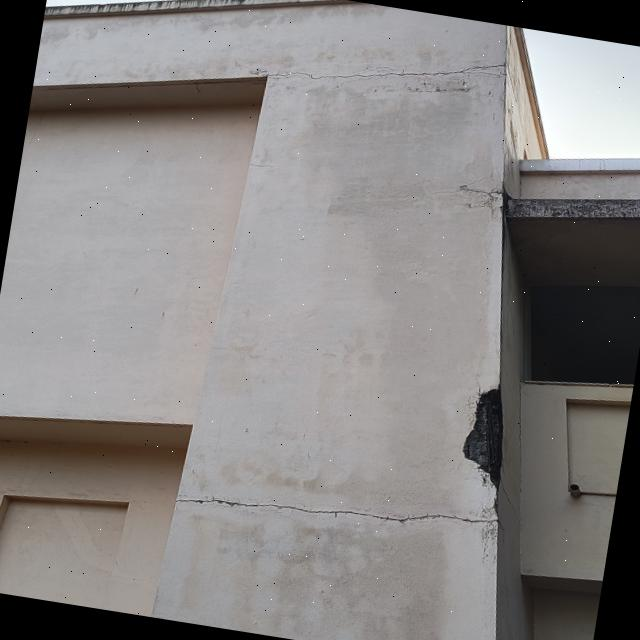crack: (155, 471, 519, 556), (266, 41, 509, 110)
peeling: (400, 343, 503, 502)
